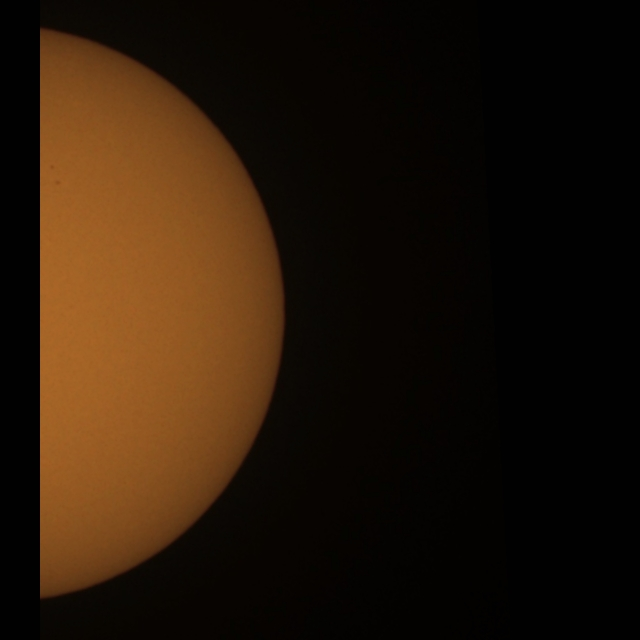sunspot: (48, 164, 62, 184), (53, 178, 62, 187), (49, 163, 55, 171)
